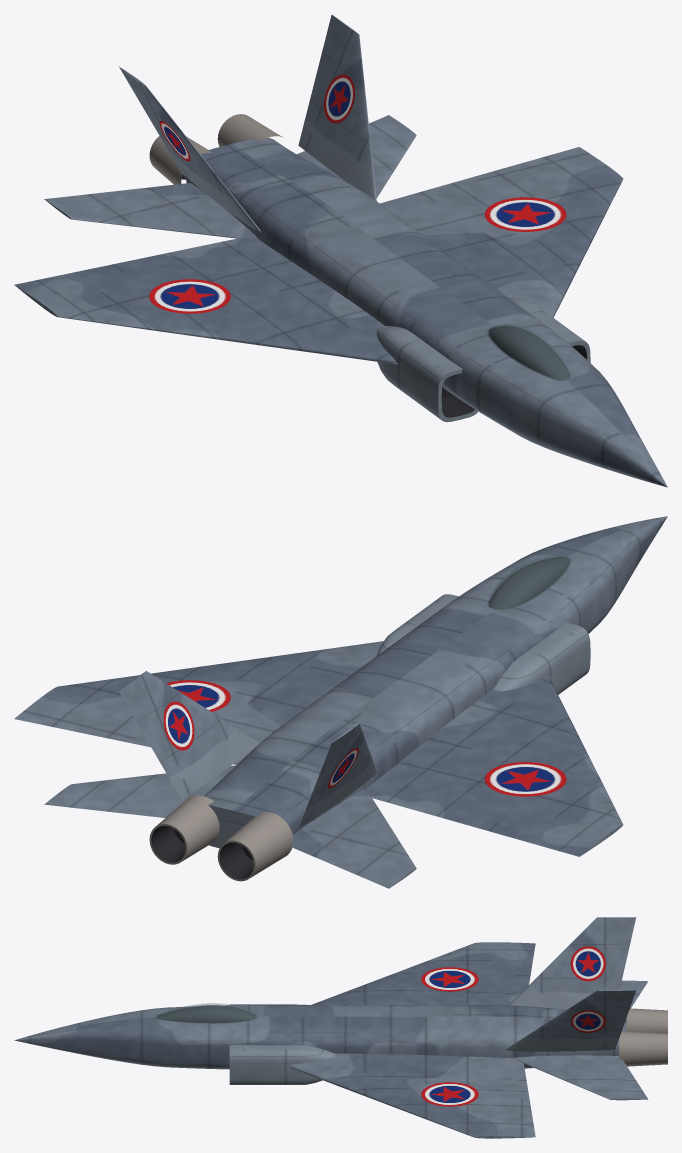
3 renders of one model, top to bottom at view 1: azimuth 30°, elevation 25°; view 2: azimuth 150°, elevation 25°; view 3: azimuth 270°, elevation 25°, orthographic. The views are drawn at different scales.
Visible parts, largest first — view 1: Fuselage, Wing0_R, Wing0_L, Fin3_L, Htail2_R, Intake_R, Fin3_R, Canopy, Htail2_L, Decal_Wing_U_L, Cockpit, Decal_Wing_U_R (+4 smaller); view 2: Fuselage, Wing0_R, Wing0_L, Fin3_L, Htail2_R, Htail2_L, Intake_R, Nozzle_R, Nozzle_L, Fin3_R, Canopy, Decal_Wing_U_R (+4 smaller); view 3: Fuselage, Wing0_L, Wing0_R, Fin3_R, Fin3_L, Htail2_L, Intake_L, Nozzle_L, Canopy, Cockpit, Decal_Wing_U_R, Decal_Wing_U_L (+3 smaller).
Part boxes in pixels (x1,y1,x2,y2): Fuselage: (186, 138, 667, 487); Wing0_R: (14, 238, 396, 364); Wing0_L: (380, 147, 623, 317); Fin3_L: (298, 15, 376, 201); Htail2_R: (44, 183, 258, 239); Intake_R: (376, 326, 478, 422); Fin3_R: (119, 66, 260, 231); Canopy: (488, 324, 572, 381); Htail2_L: (297, 115, 416, 197); Decal_Wing_U_L: (484, 197, 566, 231); Cockpit: (489, 325, 570, 380); Decal_Wing_U_R: (149, 279, 230, 313); Fuselage: (204, 516, 667, 848); Wing0_R: (366, 676, 623, 856); Wing0_L: (14, 641, 383, 764); Fin3_L: (119, 671, 260, 800); Htail2_R: (291, 789, 416, 888); Htail2_L: (44, 765, 235, 817); Intake_R: (494, 622, 590, 694); Nozzle_R: (217, 812, 293, 881); Nozzle_L: (149, 795, 219, 864); Fin3_R: (298, 723, 376, 828); Canopy: (488, 555, 572, 610); Decal_Wing_U_R: (484, 762, 566, 796); Fuselage: (14, 1005, 626, 1069); Wing0_L: (288, 1053, 535, 1138); Wing0_R: (311, 942, 535, 1005); Fin3_R: (509, 917, 636, 1009); Fin3_L: (505, 989, 635, 1051); Htail2_L: (514, 1055, 648, 1100); Intake_L: (229, 1045, 335, 1084); Nozzle_L: (619, 1031, 667, 1066); Canopy: (154, 1003, 257, 1023); Cockpit: (157, 1005, 256, 1023); Decal_Wing_U_R: (421, 967, 478, 991); Decal_Wing_U_L: (421, 1082, 478, 1106).
Bounding box in the file's own units: 14.1 × 3.69 × 20.1.
6 materials, 2 textured.
